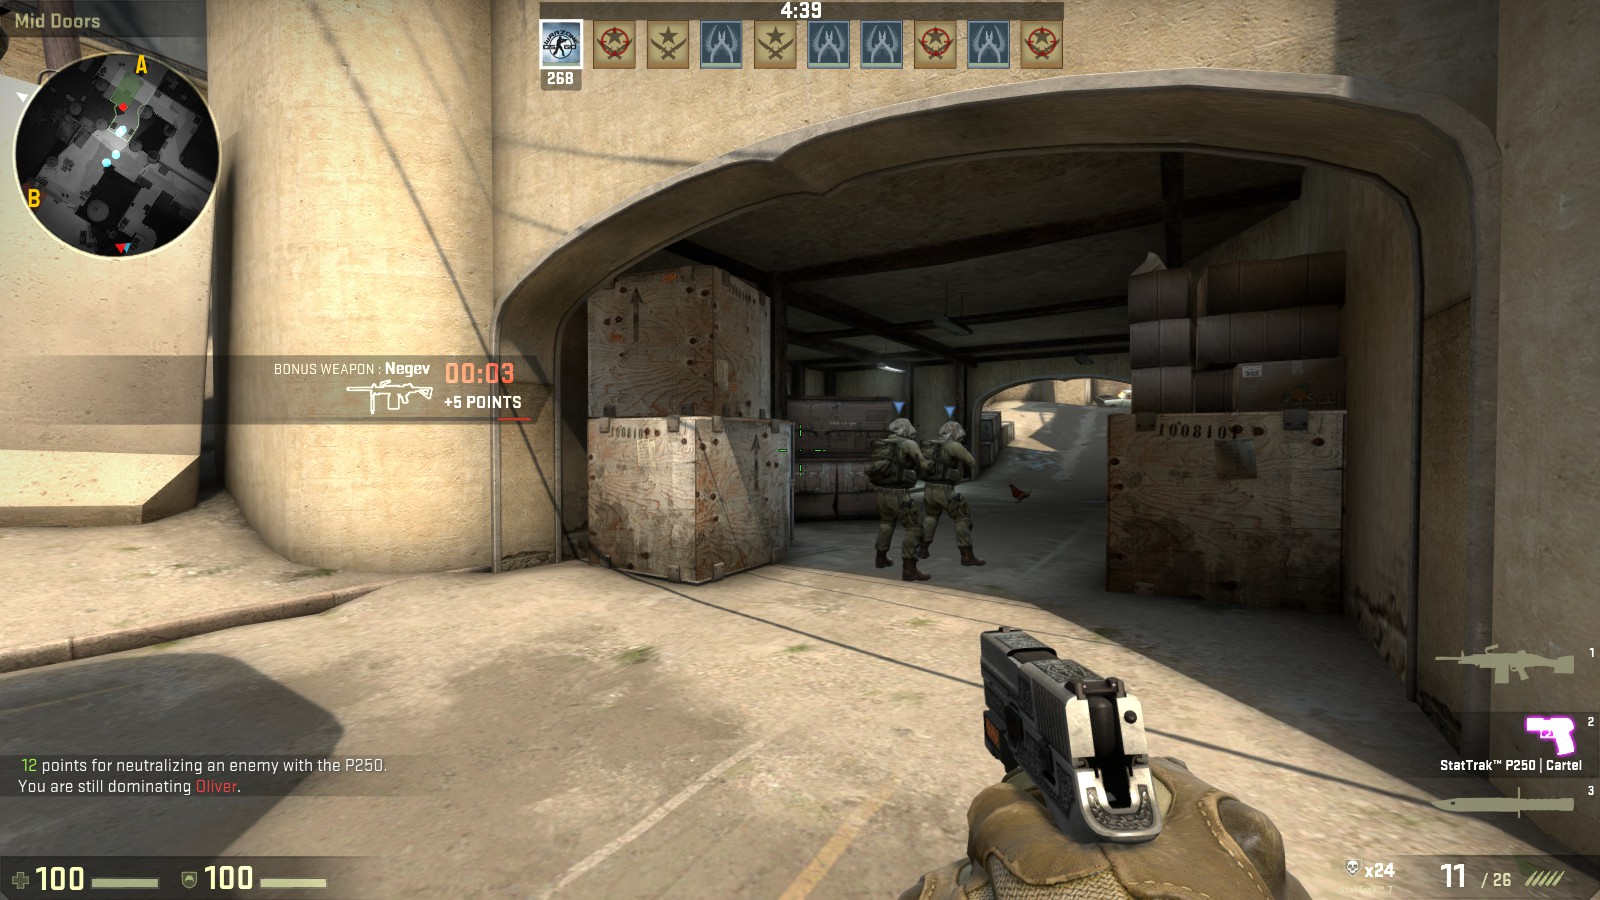c: (870, 416, 925, 579), (924, 416, 976, 567)
ch: (937, 416, 967, 444), (887, 415, 918, 441)
